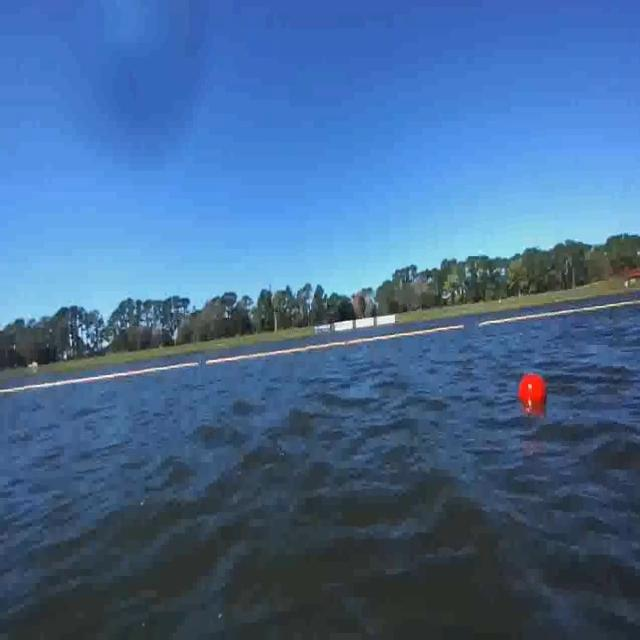red-buoy: (520, 374, 547, 406)
